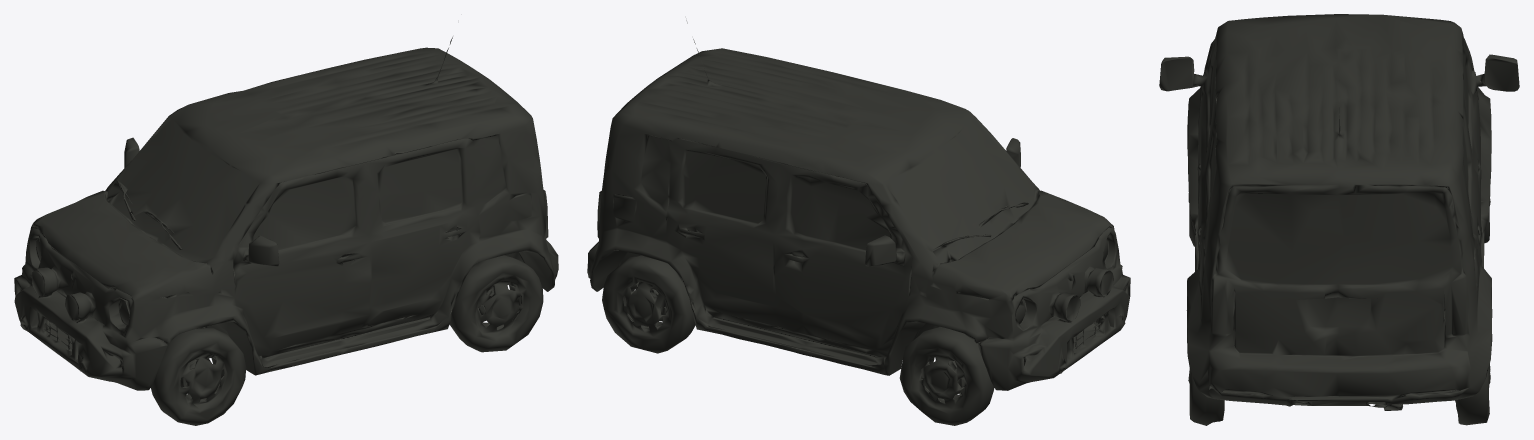
File: car_vf3_light_q0.glb
The picture shows the model from 3 angles, left to right: view 1: azimuth 30°, elevation 25°; view 2: azimuth 150°, elevation 25°; view 3: azimuth 270°, elevation 25°; orthographic projection. The views are drawn at different scales.
Bounding box in the file's own units: 0.0286 × 0.017 × 0.0155.
Materials: 1 (1 with a texture image).
